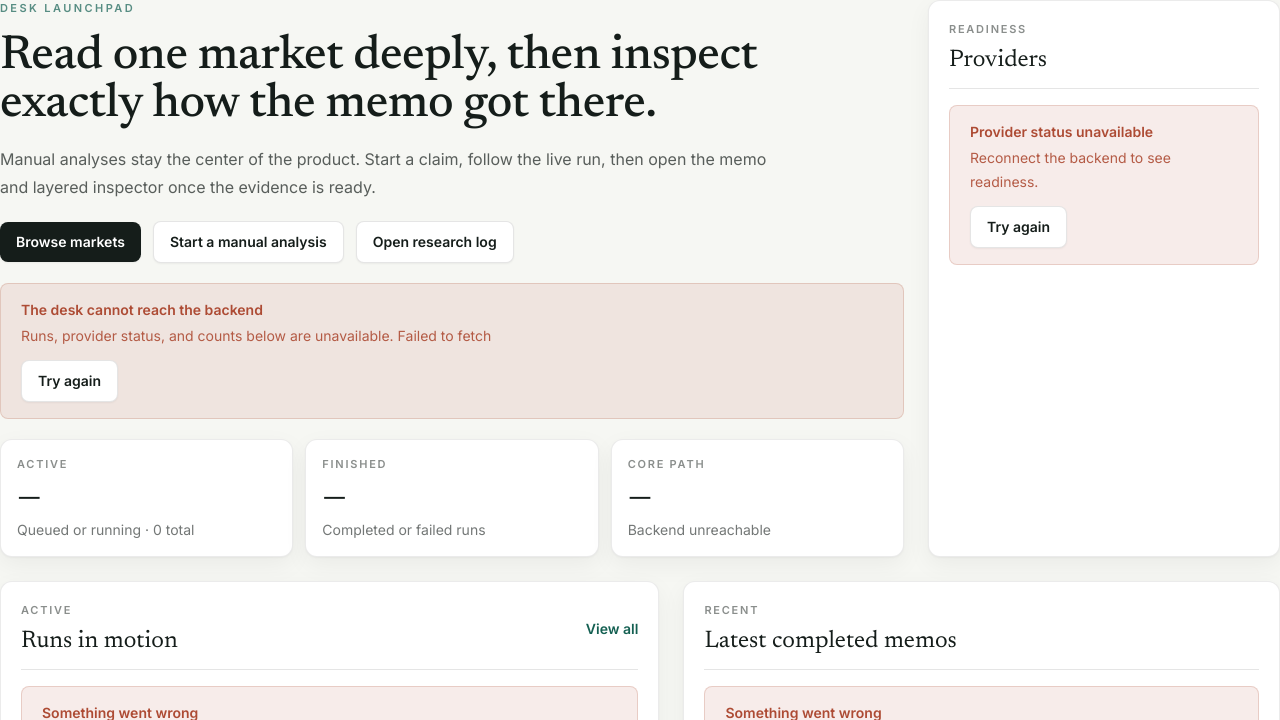
Test: DeskLaunchpad › shows a retryable error state instead of healthy zeros when the backend is down
Expected: the text "The desk cannot reach the backend" is shown, [21,300,263,318]
Expected: the text "No active analyses right now. Start one from Manual Analysis." is not shown
Click the button "Try again" below "The desk cannot reach the backend" at coordinates (70, 380), box [21,360,118,402]
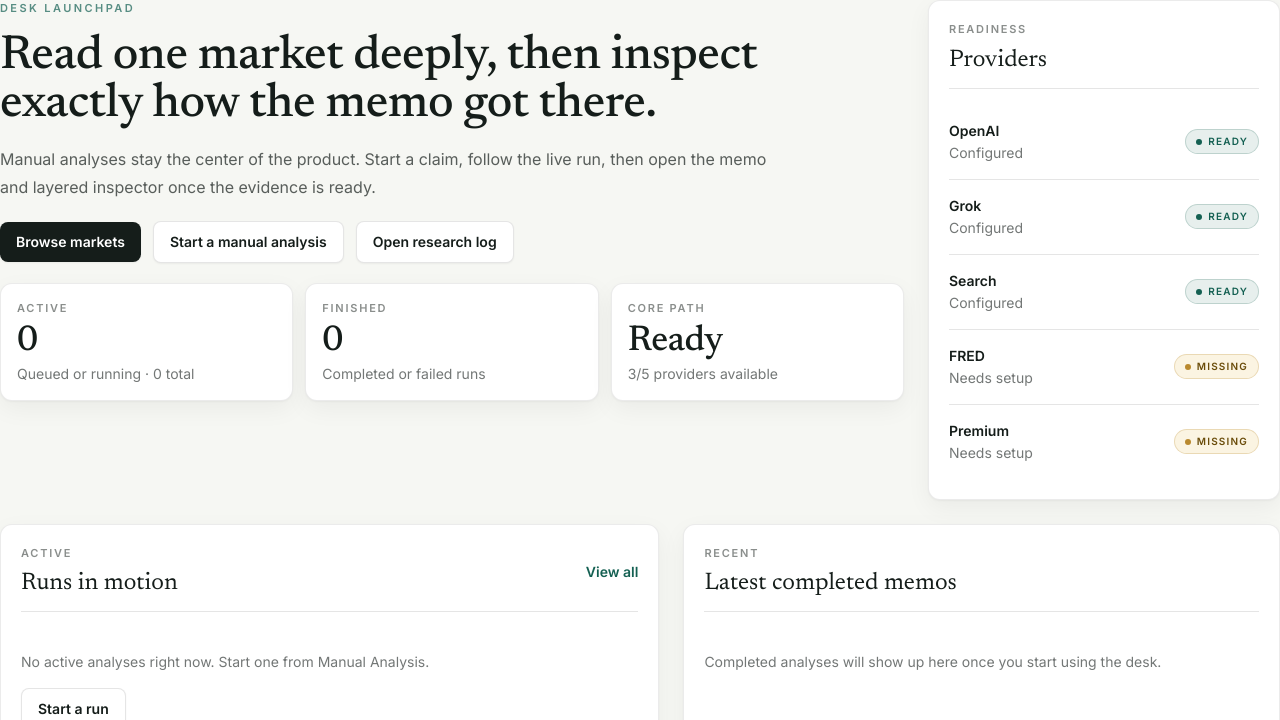
Now the text "The desk cannot reach the backend" is gone
Now the text "No active analyses right now. Start one from Manual Analysis." is shown, box [21,653,429,670]
